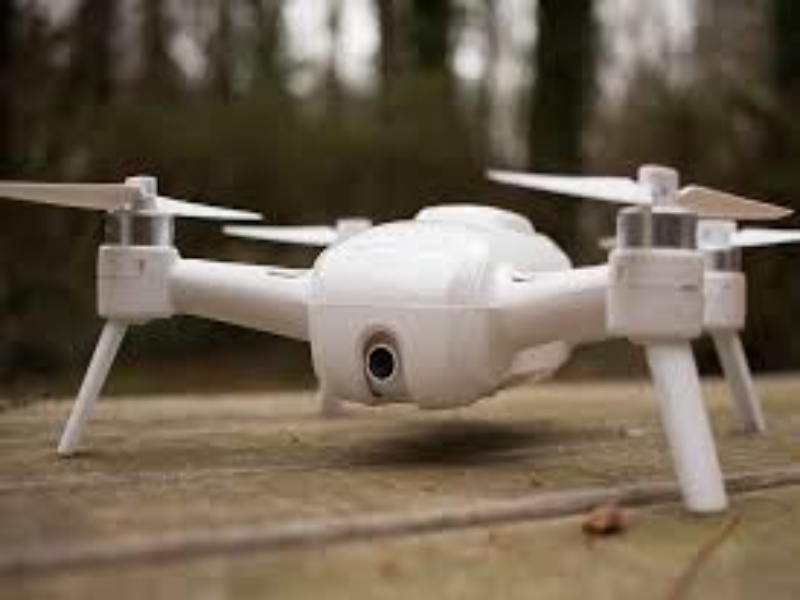drone: (19, 147, 786, 512)
